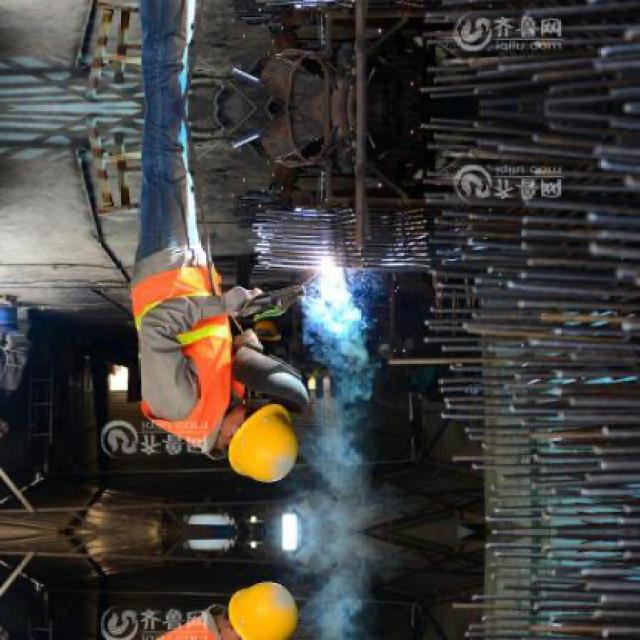con casco: (183, 366, 344, 483)
